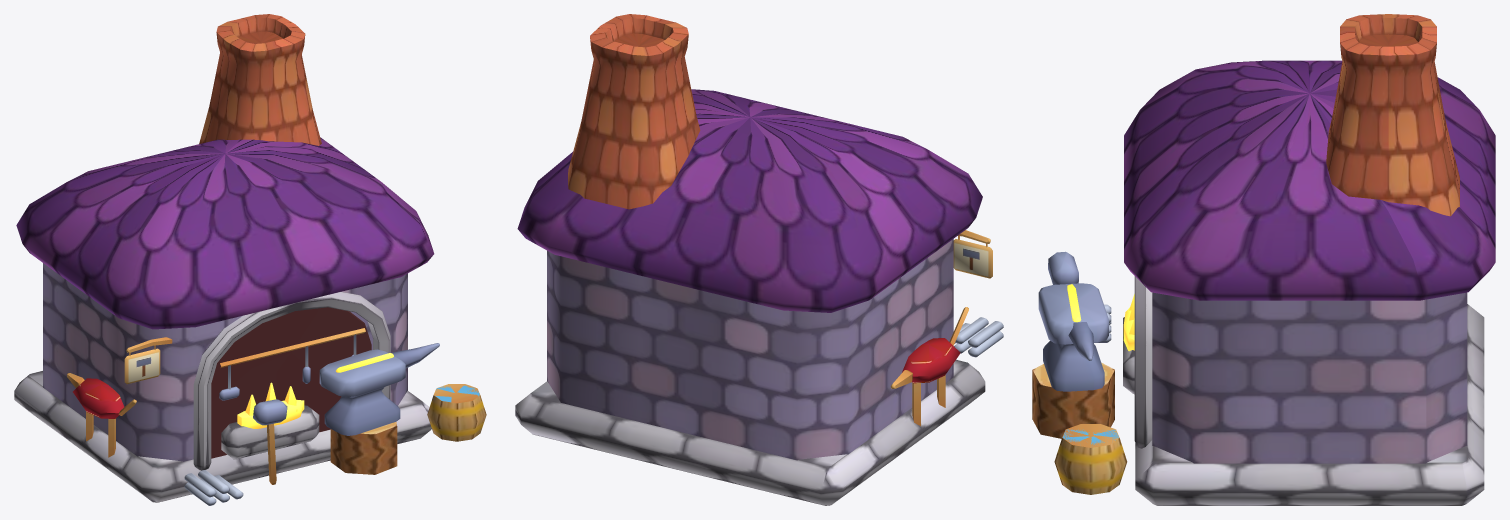
The model's file is forge.glb.
3 renders of one model, left to right at view 1: azimuth 30°, elevation 25°; view 2: azimuth 150°, elevation 25°; view 3: azimuth 270°, elevation 25°, orthographic. The views are drawn at different scales.
Parts seen in each view (by area): view 1: forge; view 2: forge; view 3: forge.
Boxes of the visible parts, box(x1,y1,x2,y2) form: forge: box(14, 14, 486, 505); forge: box(515, 14, 1003, 505); forge: box(1032, 14, 1495, 505).
Size of the model in its own units: 6.86 by 6.99 by 6.77.
4 materials, 4 textured.
